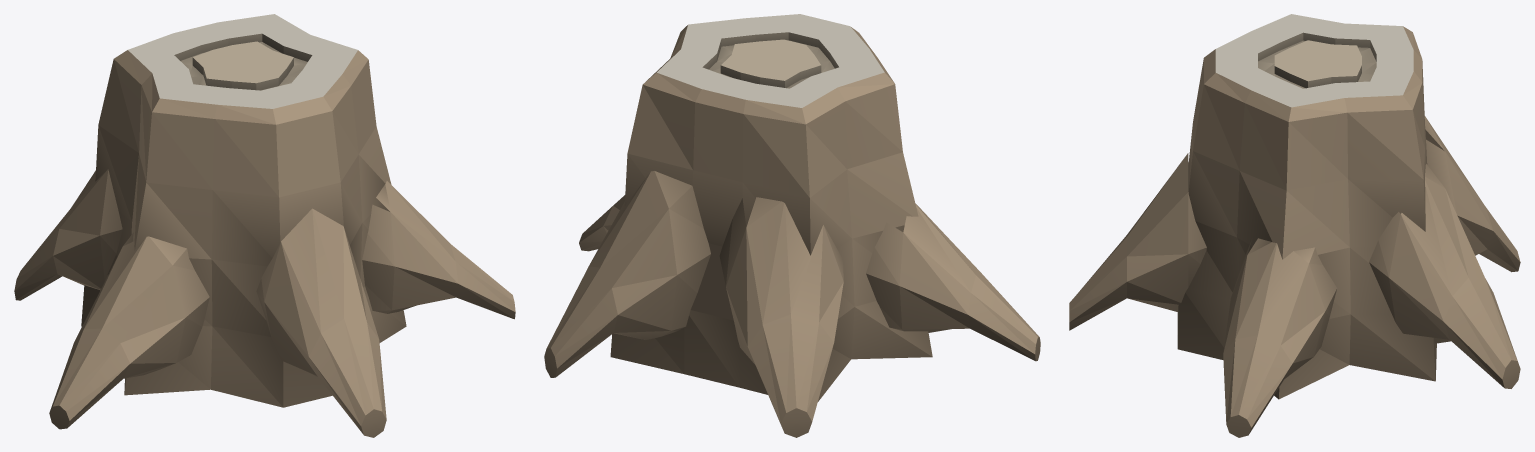
Rendered from stump.glb.
3 renders of one model, left to right at view 1: azimuth 30°, elevation 25°; view 2: azimuth 150°, elevation 25°; view 3: azimuth 270°, elevation 25°, orthographic. The views are drawn at different scales.
Visible parts, largest first — view 1: stump; view 2: stump; view 3: stump.
Part boxes in pixels (<box>): stump: <box>14,14,515,437</box>; stump: <box>544,14,1040,437</box>; stump: <box>1069,14,1520,437</box>.
Bounding box in the file's own units: 1.64 × 0.96 × 1.44.
